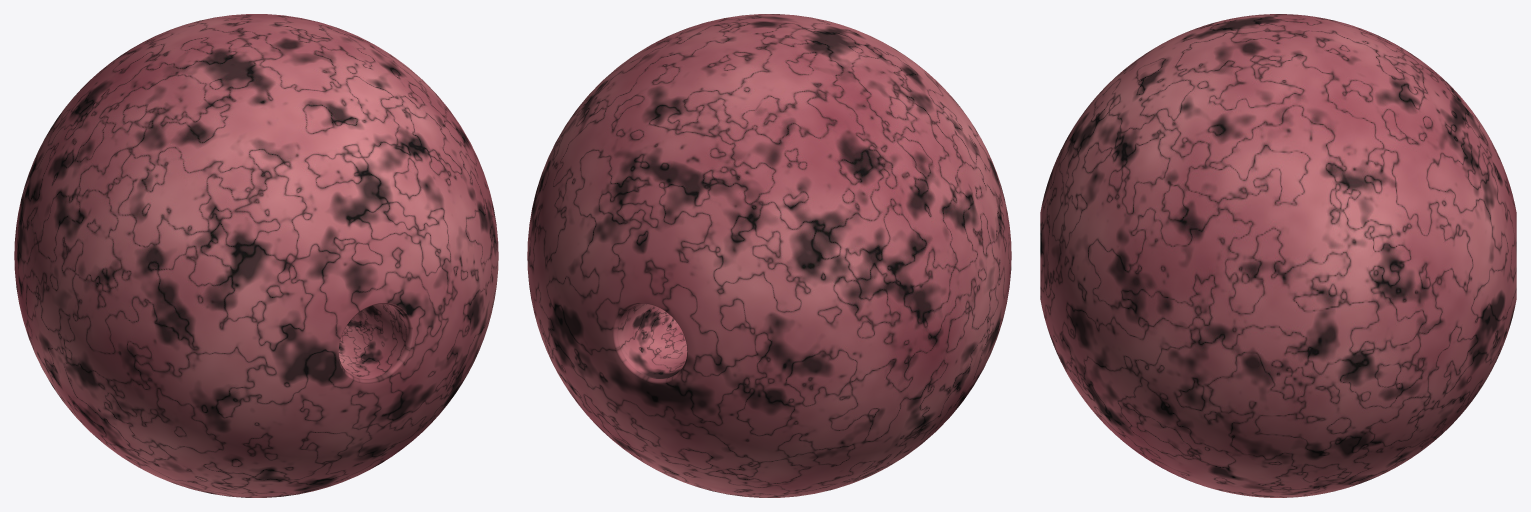
The model's file is rhodonite-6mm.glb.
The picture shows the model from 3 angles, left to right: view 1: azimuth 30°, elevation 25°; view 2: azimuth 150°, elevation 25°; view 3: azimuth 270°, elevation 25°; orthographic projection.
Visible parts, largest first — view 1: rhodonite.001; view 2: rhodonite.001; view 3: rhodonite.001.
Boxes of the visible parts, x1,y1,x2,y2 form: rhodonite.001: (14,14,498,497); rhodonite.001: (527,14,1011,497); rhodonite.001: (1040,14,1516,497).
Size of the model in its own units: 0.006 by 0.006 by 0.0059.
Materials: 1 (1 with a texture image).
